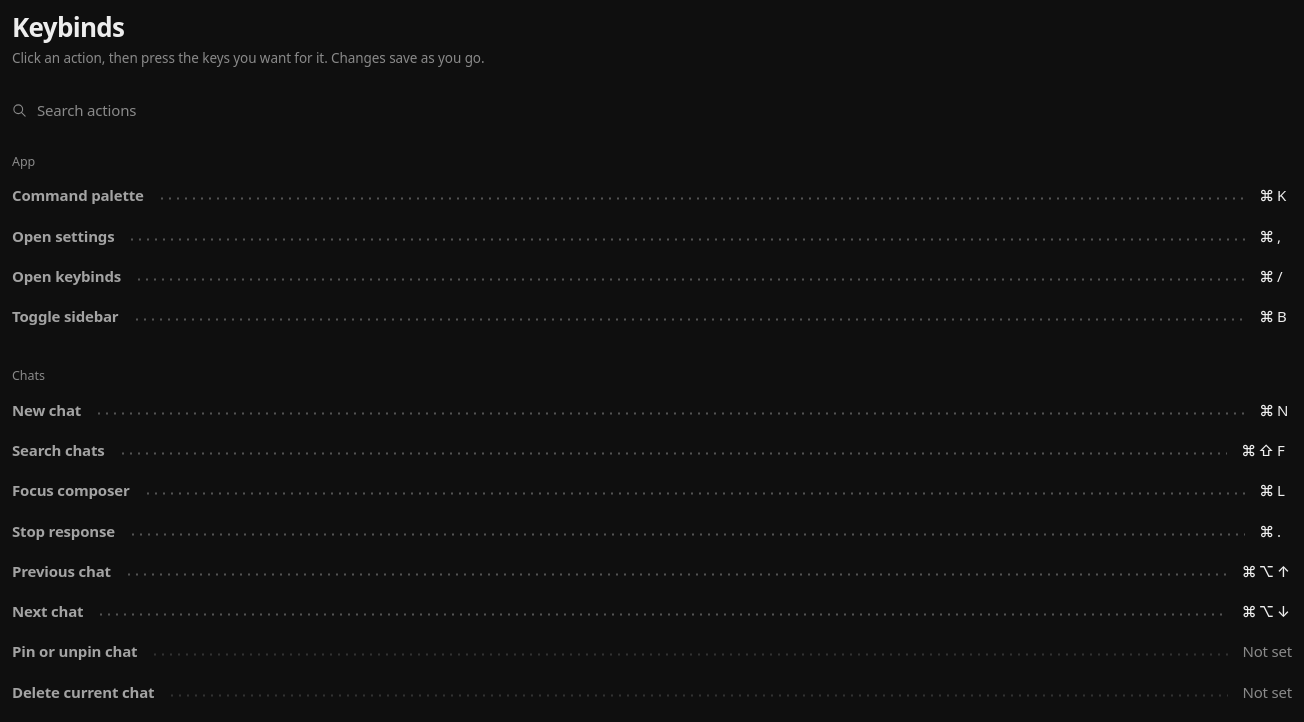
Test: keybind settings › records a new keybind and supports clearing it
Click the button named "Change Command palette keybind".
click(1276, 196)  # box [1259,185,1292,206]
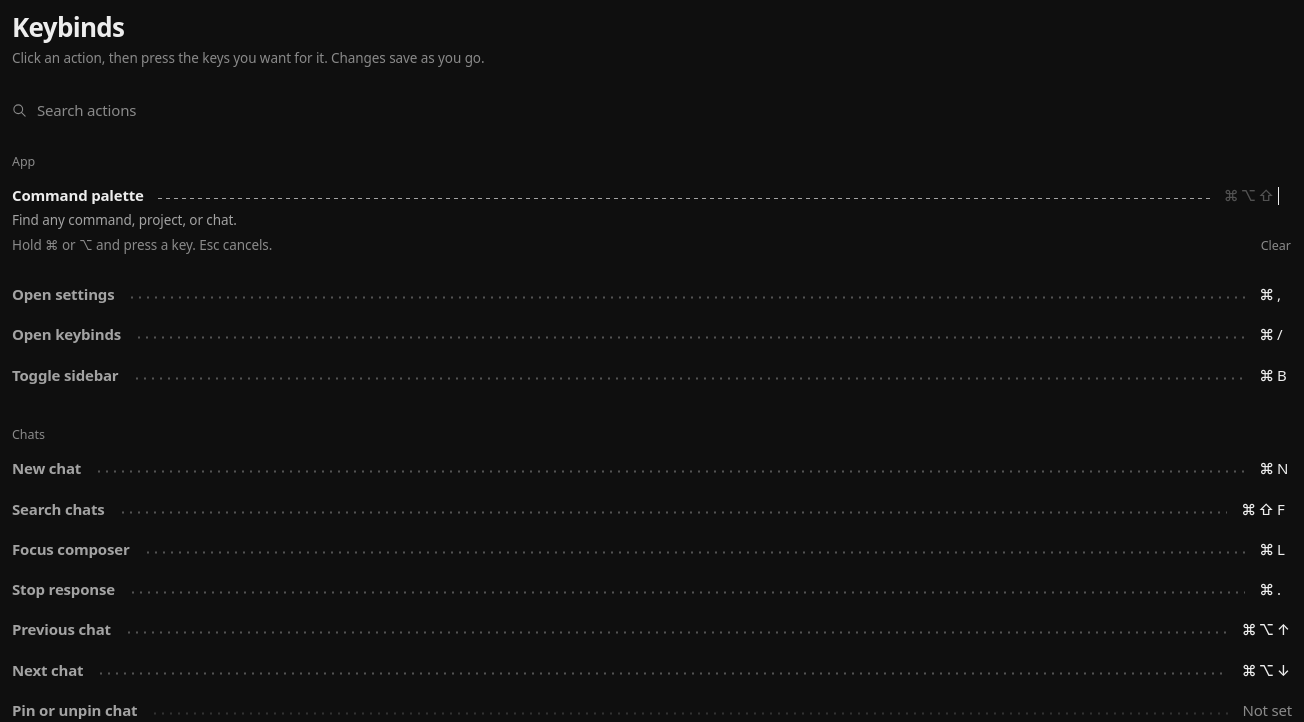
Now the button named "Change Command palette keybind" is pressed
Press Y in the button named "Change Command palette keybind", box [1224,185,1292,206]
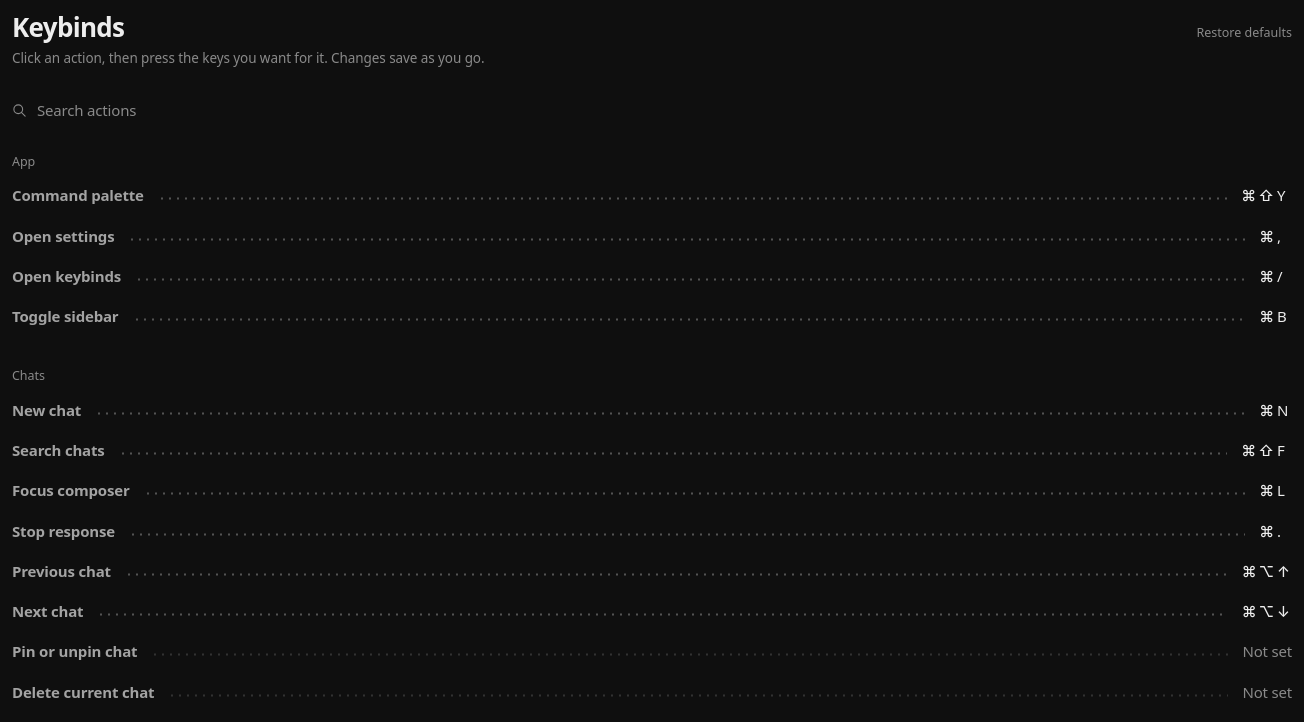
Now the 1st text "⇧" is shown, box [1258,185,1274,206]
Now the element showing "⌘ ⇧ Y" is shown
Now the text with class "keybind-shortcut__key" reads "Y", box [1277,185,1286,205]
Click the button named "Change Command palette keybind".
click(1267, 196)  # box [1241,185,1292,206]
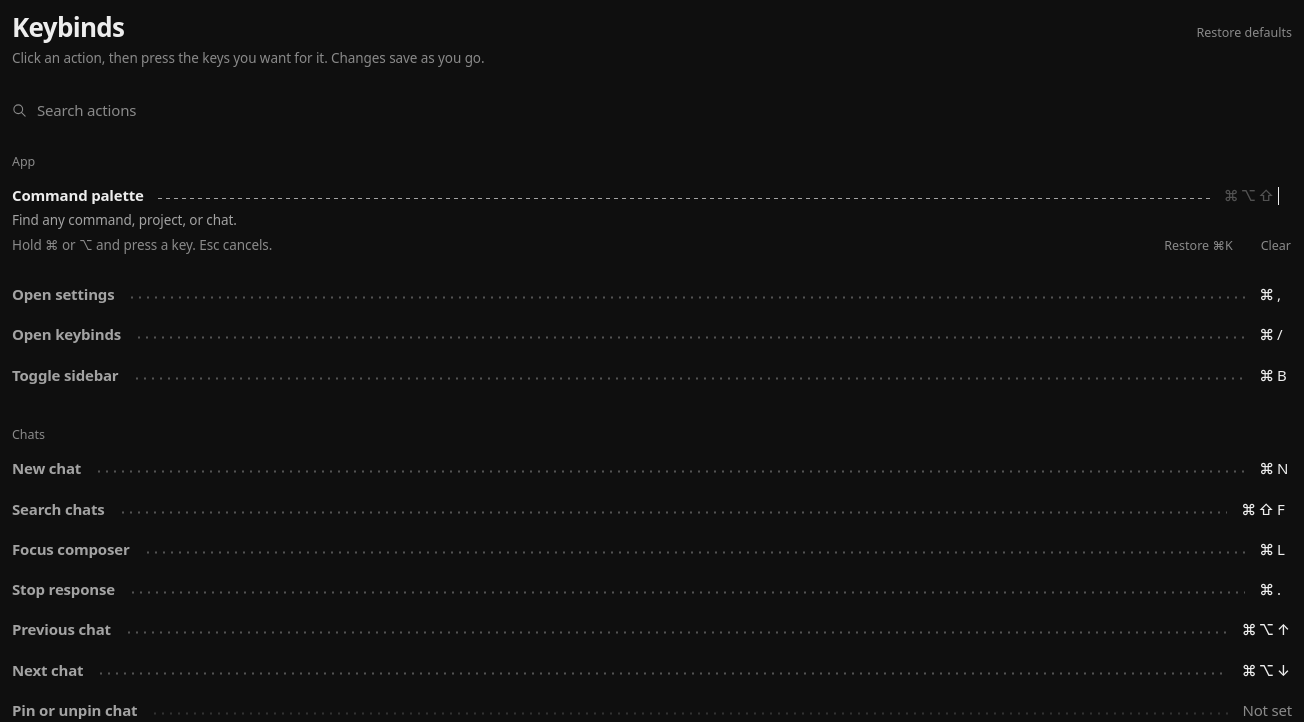
Click the button with aria-label "Clear Command palette keybind".
click(1271, 246)  # box [1250,232,1292,260]
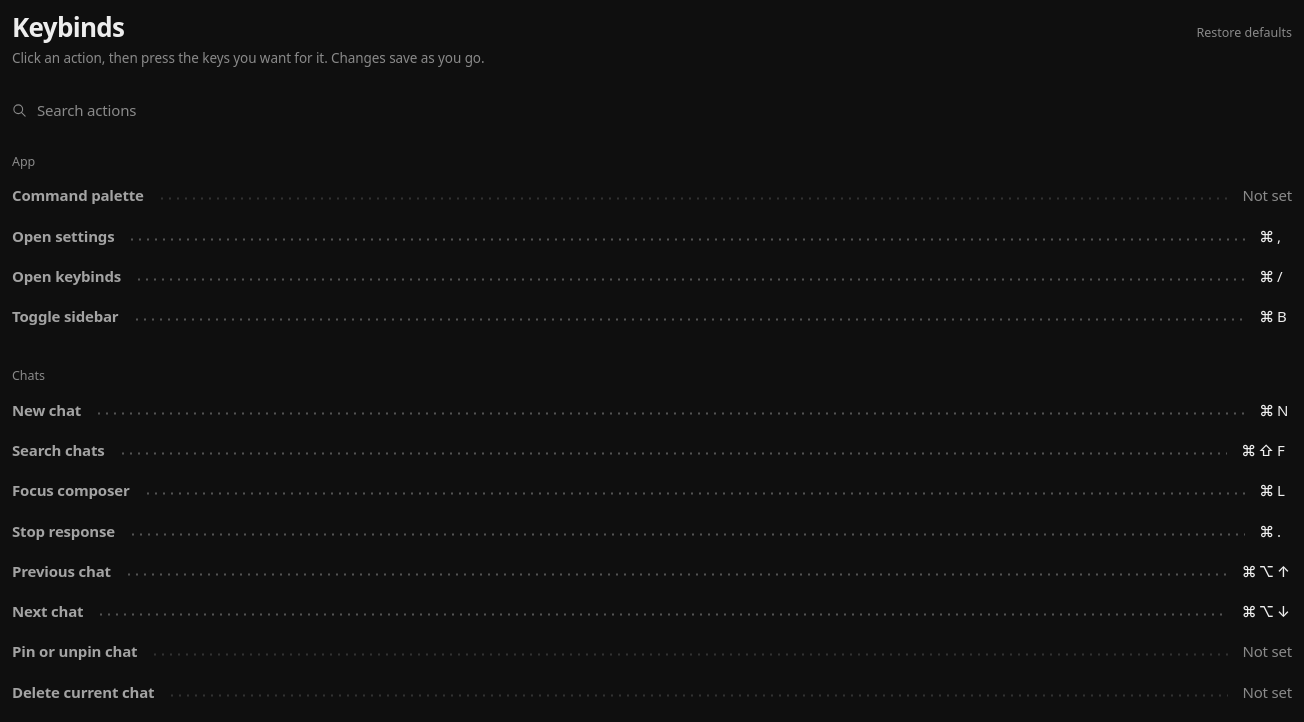
Now the button with aria-label "Change Command palette keybind" reads "Not set", box [1242,185,1292,206]
